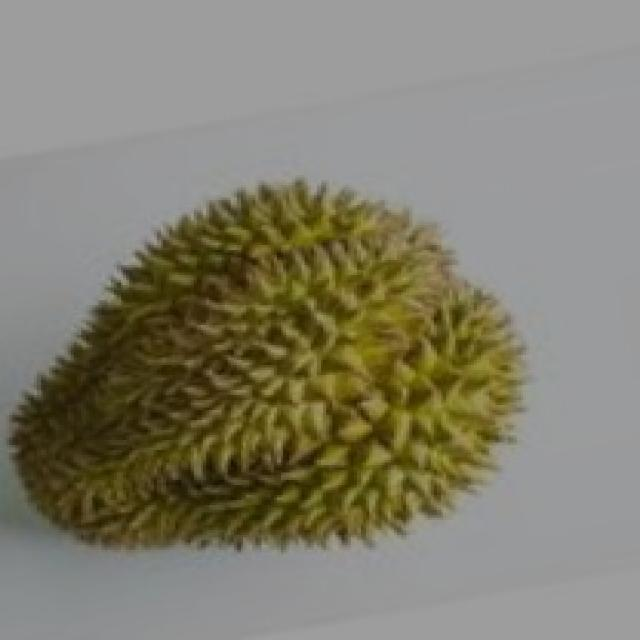fruit: (184, 228, 578, 610), (0, 220, 366, 615)
